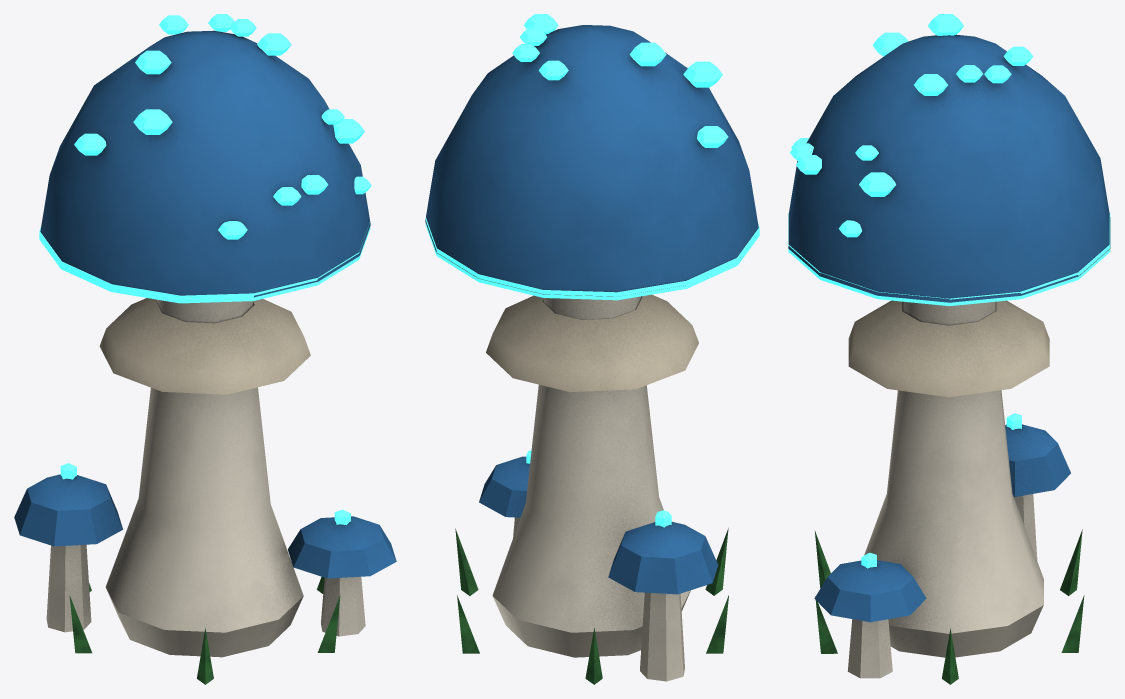
The model's file is hongo_luminoso.fbx.
The picture shows the model from 3 angles, left to right: view 1: azimuth 30°, elevation 25°; view 2: azimuth 150°, elevation 25°; view 3: azimuth 270°, elevation 25°; orthographic projection.
Visible parts, largest first — view 1: hongo_luminoso, hongo_luminoso_neon; view 2: hongo_luminoso, hongo_luminoso_neon; view 3: hongo_luminoso, hongo_luminoso_neon.
Part boxes in pixels (left/top/right/bottom): hongo_luminoso: left=14, top=30, right=396, bottom=684; hongo_luminoso_neon: left=39, top=14, right=371, bottom=525; hongo_luminoso: left=425, top=25, right=758, bottom=684; hongo_luminoso_neon: left=425, top=14, right=759, bottom=527; hongo_luminoso: left=788, top=34, right=1110, bottom=684; hongo_luminoso_neon: left=788, top=14, right=1110, bottom=568.
Size of the model in its own units: 1.04 by 1.94 by 0.9767.
2 materials, 2 textured.
